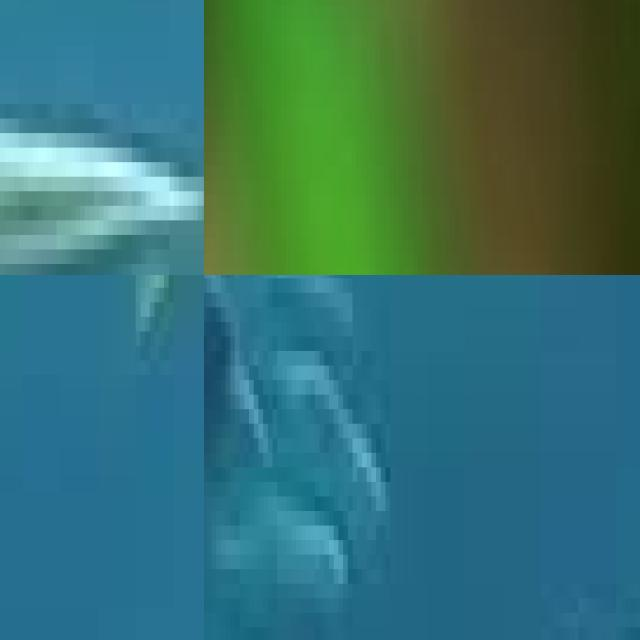fish: (204, 0, 525, 275), (0, 0, 204, 275)
